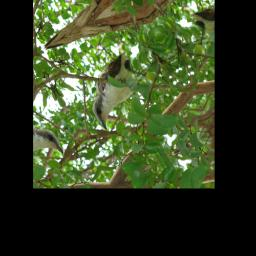Cuckoo: (73, 50, 157, 131)
